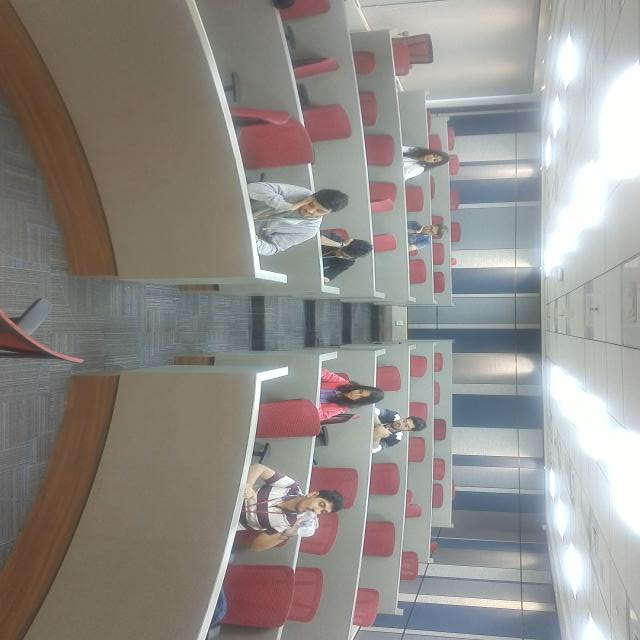non-cheating: (454, 289, 556, 427), (164, 284, 254, 406), (363, 251, 422, 334)
